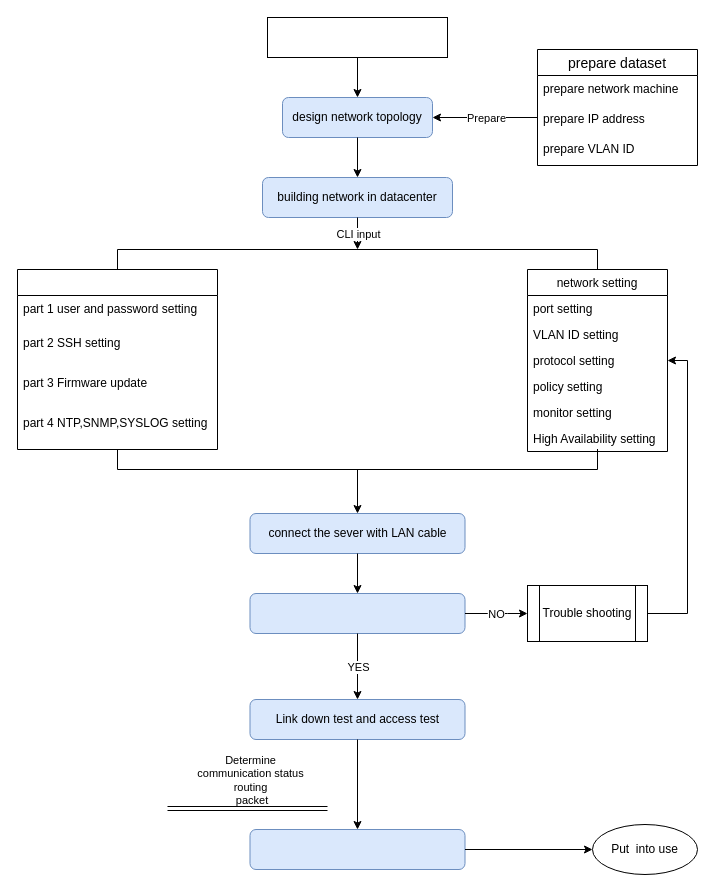
This 715x892 diagram has some shape labels left out. The box of each missing label's shape, as (x1, y1, x2, y2) in pixels:
communication path confirmation: (249, 592, 465, 634)
network machine initialiazation: (16, 268, 218, 450)
Network Organization Structure: (266, 16, 448, 58)
Test analysis and network analysis: (249, 828, 465, 870)
